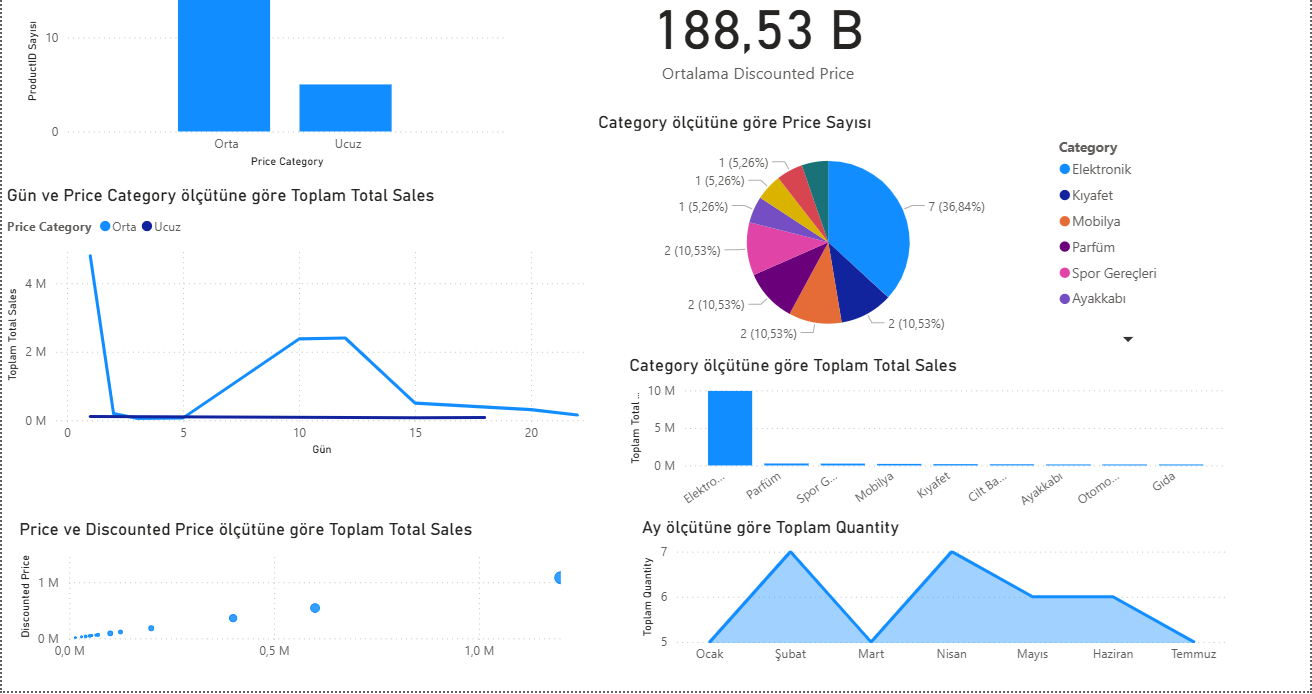

The page's visual inventory and layout, read from the dashboard file:
{"tool":"powerbi","page":{"name":"1. sayfa","canvas":[1280,720],"ordinal":0},"visuals":[{"type":"card","fields":{"Values":["Avg(Products.Discounted Price)"]},"box":[547.2,0,386.6,153.2],"z":0},{"type":"pieChart","fields":{"Category":["Products.Category"],"Y":["CountNonNull(Products.Price)"]},"box":[578.1,153.1,594.3,235.9],"z":1000},{"type":"columnChart","fields":{"Category":["Products.Price Category"],"Y":["CountNonNull(Products.ProductID)"]},"box":[19.3,0,478.8,212.6],"z":2000},{"type":"lineChart","fields":{"Category":["Sales.SaleDate.Varyasyon.Tarih Hiyerarşisi.Gün"],"Y":["Sum(Sales.Total Sales)"],"Series":["Products.Price Category"]},"box":[0,225.1,578.1,270.1],"z":3000},{"type":"clusteredColumnChart","fields":{"Category":["Products.Category"],"Y":["Sum(Sales.Total Sales)"]},"box":[608.7,390.8,594.3,160.3],"z":4000},{"type":"areaChart","fields":{"Category":["Sales.SaleDate.Varyasyon.Tarih Hiyerarşisi.Ay"],"Y":["Sum(Sales.Quantity)"]},"box":[621.6,548.7,581.4,153.2],"z":5000},{"type":"scatterChart","fields":{"X":["Products.Price"],"Y":["Products.Discounted Price"],"Size":["Sum(Sales.Total Sales)"]},"box":[11.9,551.7,554.6,147.2],"z":6000}]}

Visuals, with their boxes on the page's 1280x720 design canvas (x1, y1, x2, y2). These are canvas units, not pixel positions in the 1312x694 screenshot, which may show the page scaled, cropped or inside an application window:
card - Avg(Products.Discounted Price): pyautogui.locateOnScreen(547, 0, 934, 153)
pieChart - Products.Category x CountNonNull(Products.Price): pyautogui.locateOnScreen(578, 153, 1172, 389)
columnChart - Products.Price Category x CountNonNull(Products.ProductID): pyautogui.locateOnScreen(19, 0, 498, 213)
lineChart - Sales.SaleDate.Varyasyon.Tarih Hiyerarşisi.Gün x Sum(Sales.Total Sales): pyautogui.locateOnScreen(0, 225, 578, 495)
clusteredColumnChart - Products.Category x Sum(Sales.Total Sales): pyautogui.locateOnScreen(609, 391, 1203, 551)
areaChart - Sales.SaleDate.Varyasyon.Tarih Hiyerarşisi.Ay x Sum(Sales.Quantity): pyautogui.locateOnScreen(622, 549, 1203, 702)
scatterChart - Products.Price x Products.Discounted Price: pyautogui.locateOnScreen(12, 552, 566, 699)
